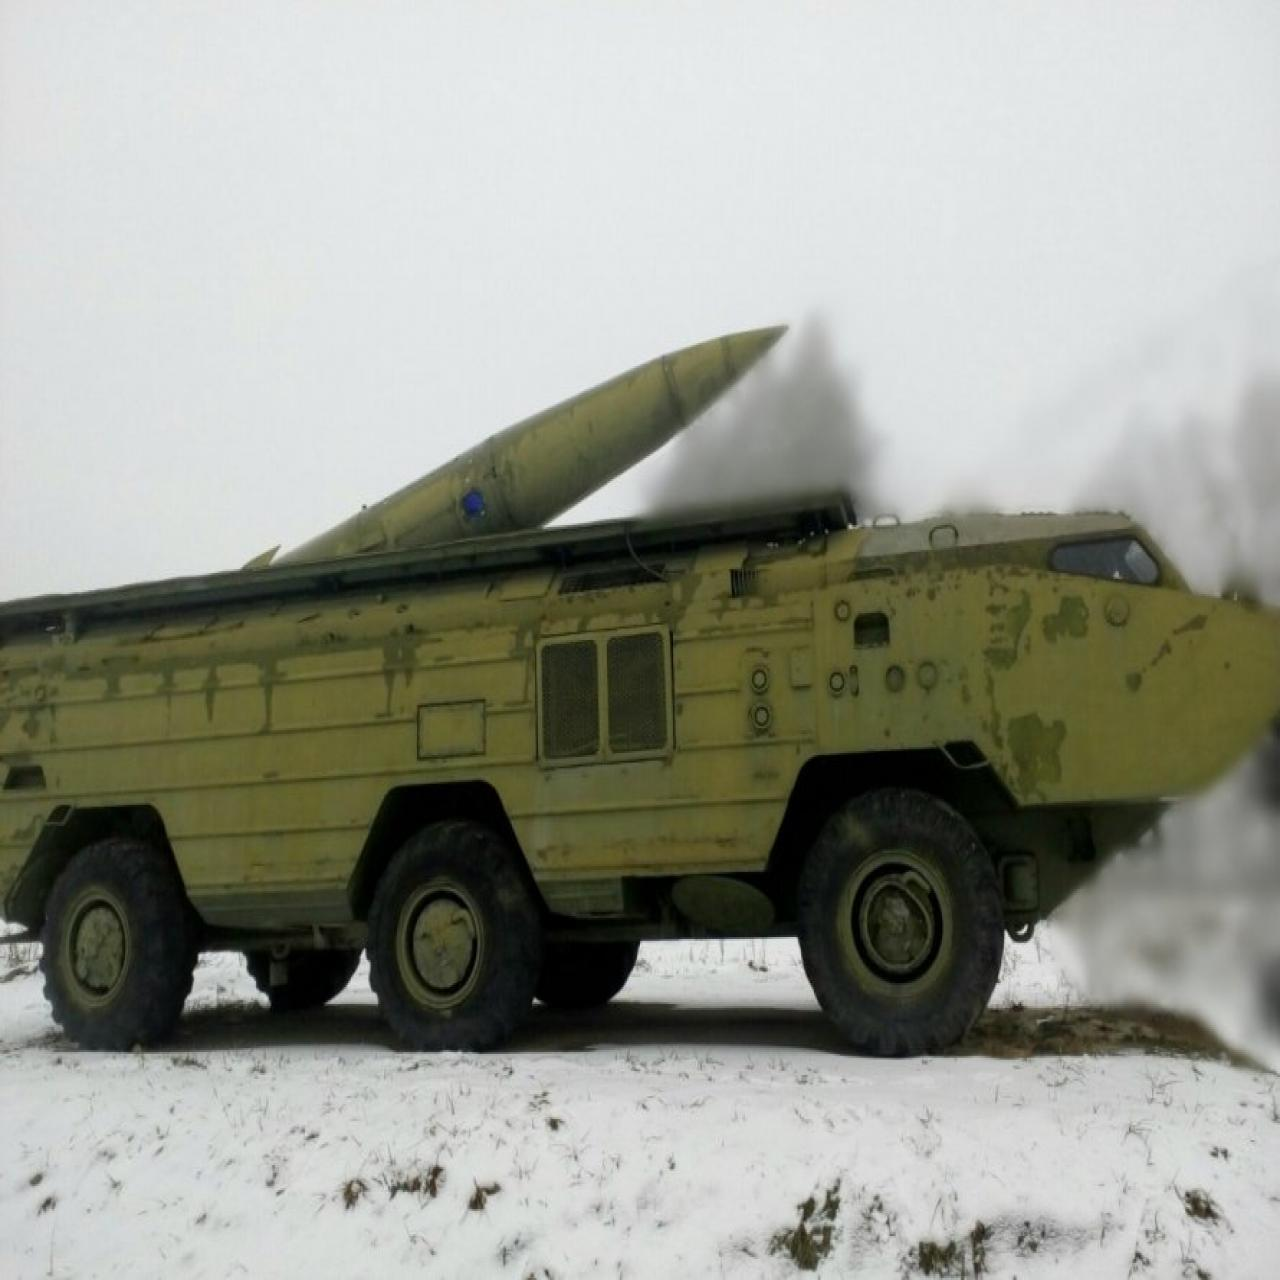MIL_Veh: (2, 321, 1280, 1039)
